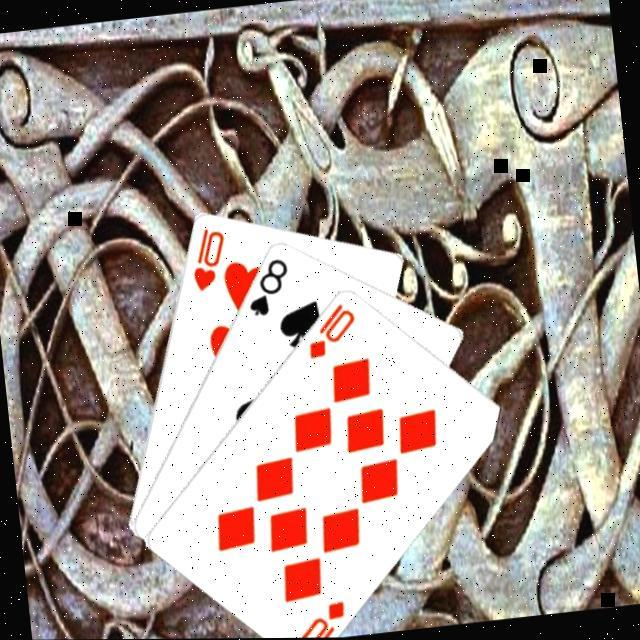10D: (299, 298, 361, 362), (290, 597, 348, 638)
10H: (184, 223, 231, 295)
8S: (239, 254, 294, 321)
